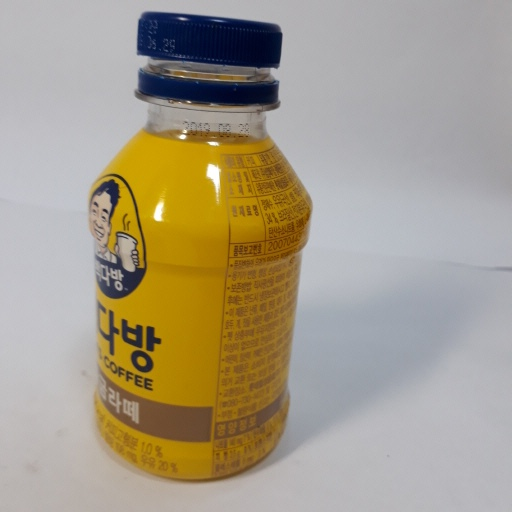Plastic_0: (84, 10, 315, 489)
